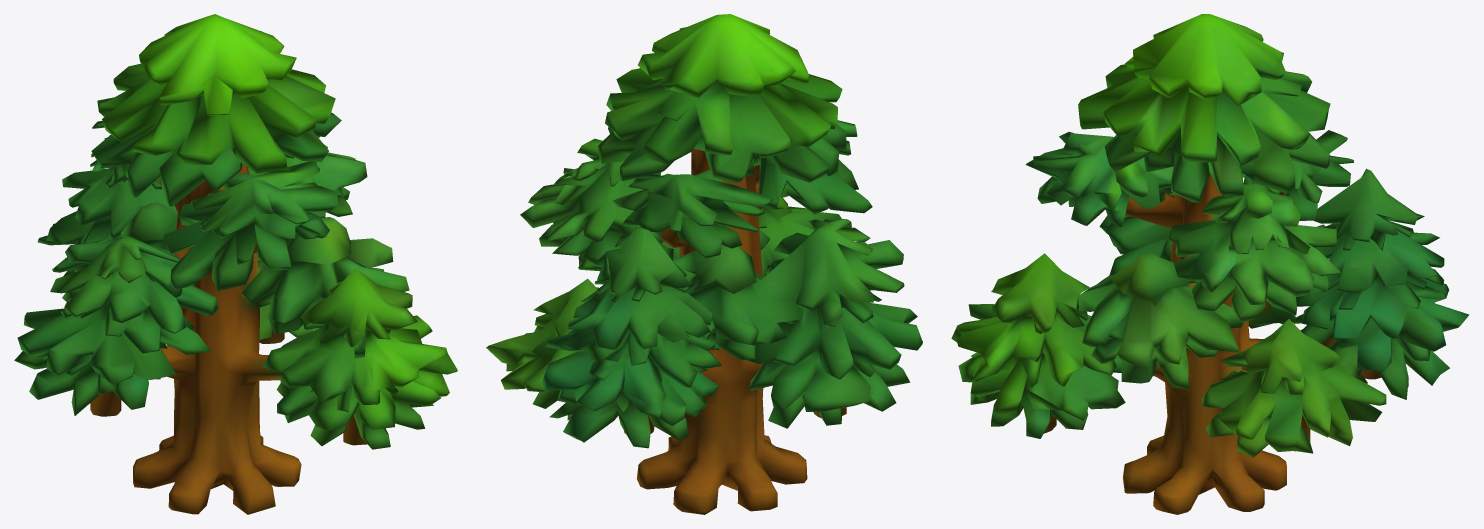
3 views of the same model, side by side, from view 1: azimuth 30°, elevation 25°; view 2: azimuth 150°, elevation 25°; view 3: azimuth 270°, elevation 25° (orthographic).
Visible parts, largest first — view 1: tripo_node_e1045a48-5114-45e9-a4c9-8e733d051e75; view 2: tripo_node_e1045a48-5114-45e9-a4c9-8e733d051e75; view 3: tripo_node_e1045a48-5114-45e9-a4c9-8e733d051e75.
Boxes of the visible parts, x1,y1,x2,y2 form: tripo_node_e1045a48-5114-45e9-a4c9-8e733d051e75: (14, 14, 457, 514); tripo_node_e1045a48-5114-45e9-a4c9-8e733d051e75: (486, 14, 922, 514); tripo_node_e1045a48-5114-45e9-a4c9-8e733d051e75: (951, 14, 1469, 514).
Bounding box in the file's own units: 0.8004 × 0.9961 × 1.
Materials: 1 (1 with a texture image).
